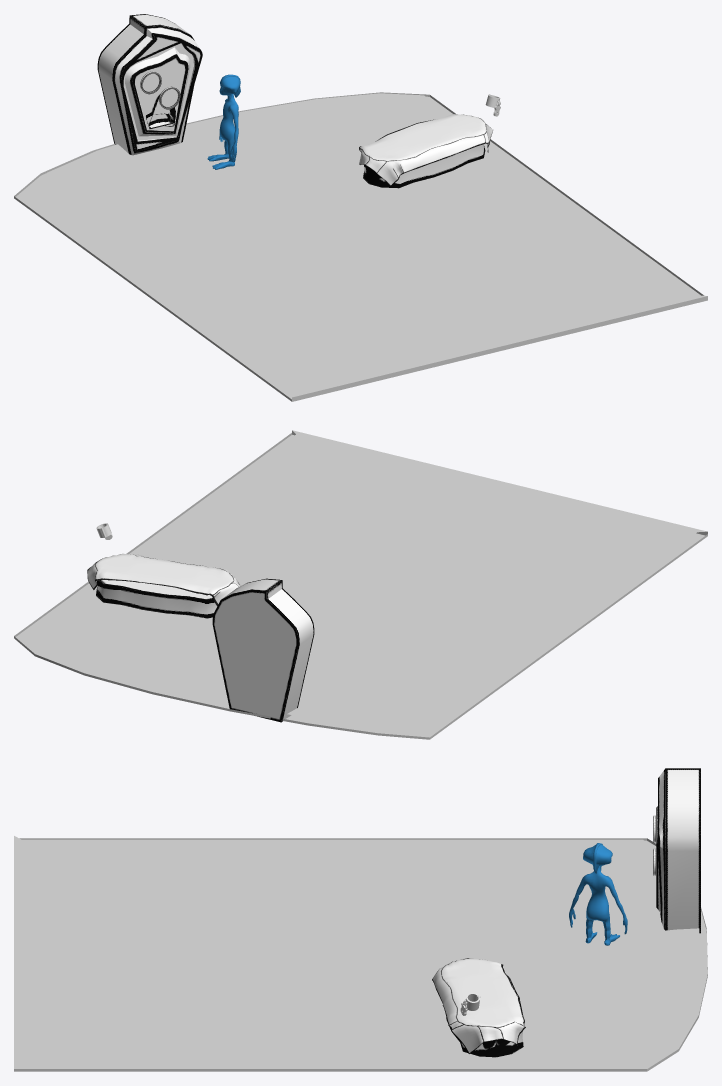
File: fridge 166.FBX
3 renders of one model, top to bottom at view 1: azimuth 30°, elevation 25°; view 2: azimuth 150°, elevation 25°; view 3: azimuth 270°, elevation 25°, orthographic. The views are drawn at different scales.
Parts seen in each view (by area): view 1: boden, Line009, Plane001, zz; view 2: boden, Line009, Plane001; view 3: boden, Line009, Plane001, zz.
Boxes of the visible parts, <box> form: boden: <box>14,92,707,401</box>; Line009: <box>97,14,202,155</box>; Plane001: <box>359,114,492,188</box>; zz: <box>207,74,240,169</box>; boden: <box>14,430,707,739</box>; Line009: <box>212,578,314,722</box>; Plane001: <box>87,553,240,618</box>; boden: <box>14,836,707,1071</box>; Line009: <box>656,768,700,933</box>; Plane001: <box>432,958,525,1057</box>; zz: <box>569,843,627,945</box>.
Size of the model in its own units: 483 by 146 by 613.
